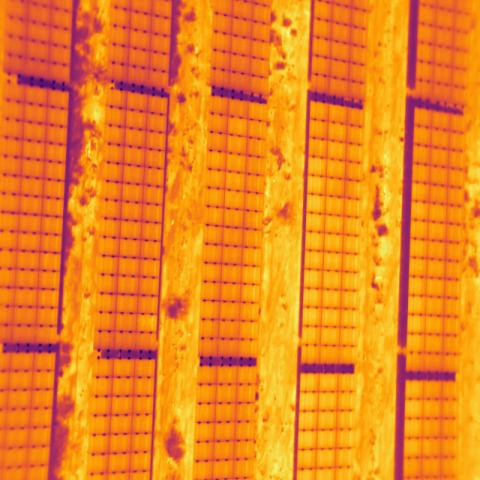fault: (137, 314, 160, 334)
